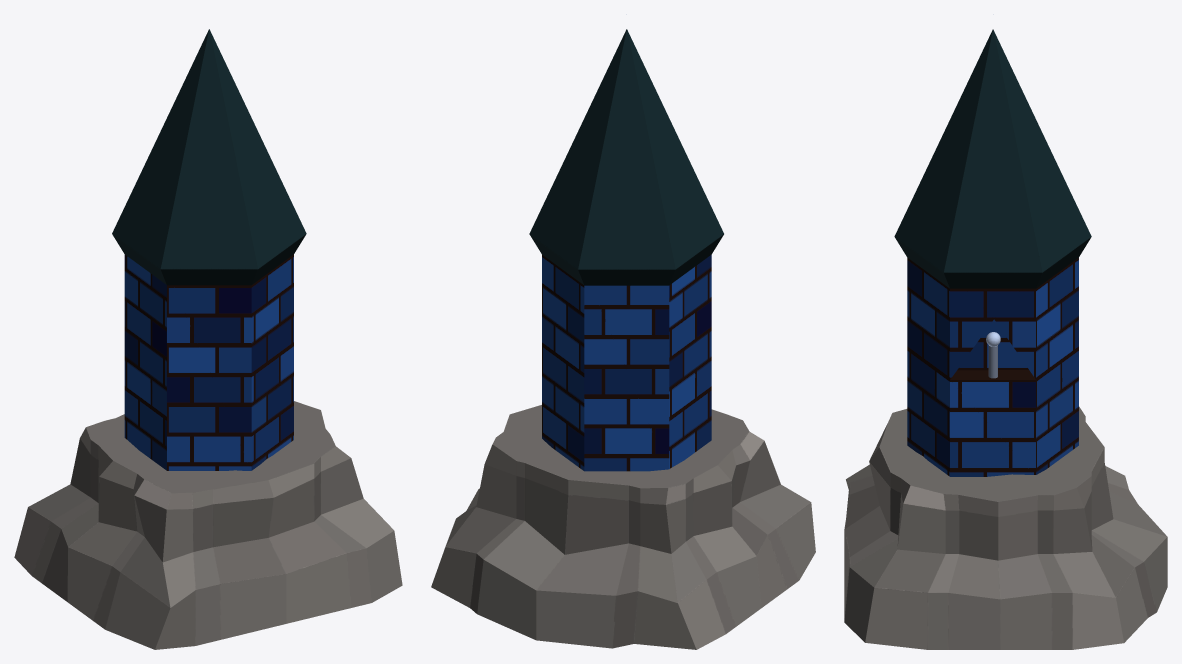
The model's file is Turret2.fbx.
The picture shows the model from 3 angles, left to right: view 1: azimuth 30°, elevation 25°; view 2: azimuth 150°, elevation 25°; view 3: azimuth 270°, elevation 25°; orthographic projection.
Visible parts, largest first — view 1: Base, TowerCylinder, TowerTip; view 2: Base, TowerCylinder, TowerTip; view 3: Base, TowerCylinder, TowerTip, WandTip.
Boxes of the visible parts, <box> form: Base: <box>14,401,402,649</box>; TowerCylinder: <box>124,254,293,470</box>; TowerTip: <box>112,29,306,285</box>; Base: <box>431,405,815,649</box>; TowerCylinder: <box>542,255,711,471</box>; TowerTip: <box>529,29,723,285</box>; Base: <box>844,406,1167,649</box>; TowerCylinder: <box>907,257,1078,476</box>; TowerTip: <box>894,29,1091,288</box>; WandTip: <box>986,332,1000,378</box>.
Size of the model in its own units: 287 by 546 by 280.
